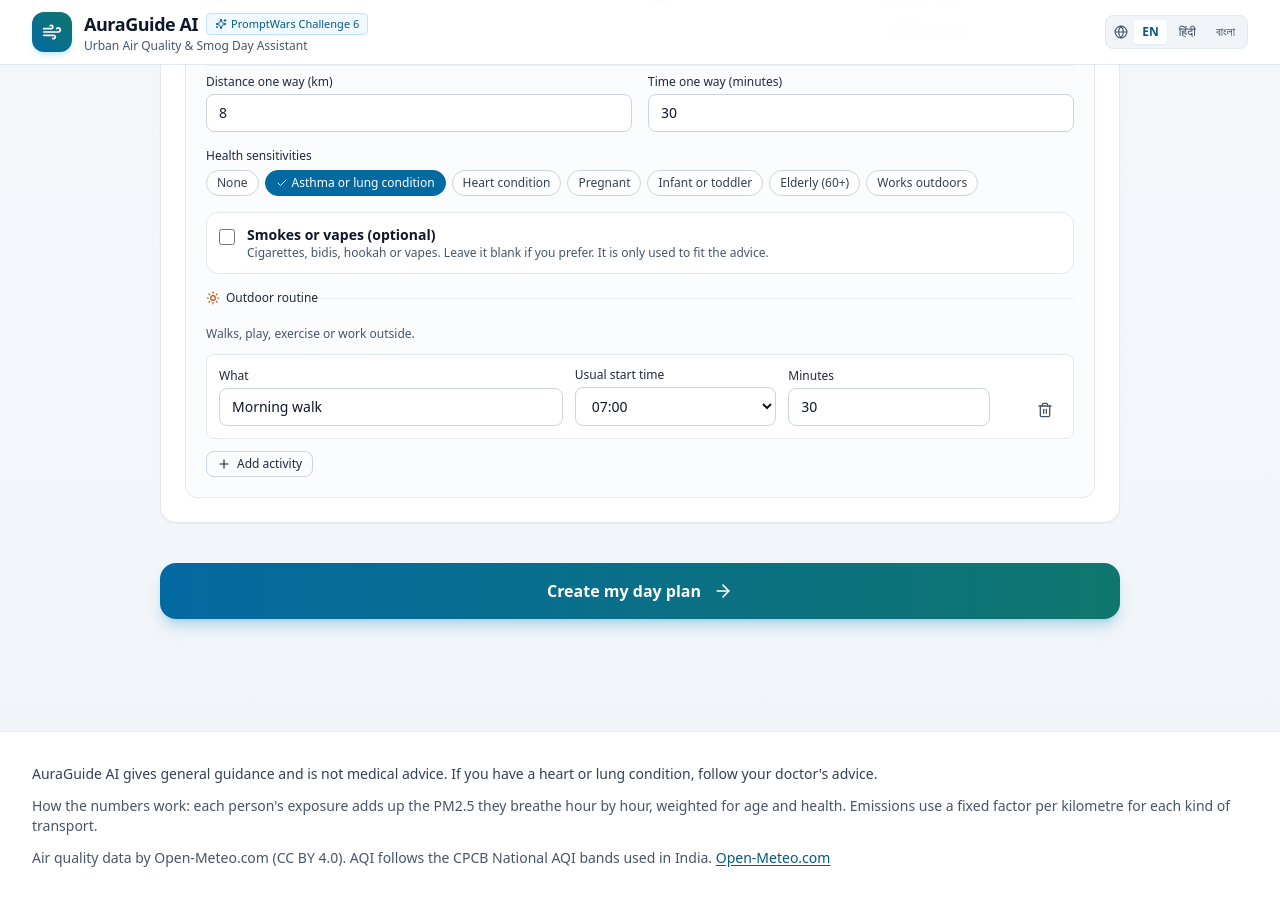
Test: HomePage › writes the plan again if the language changes while it is loading
(page scrolled)
Click the button "Create my day plan". click: (640,591)
box: x1=160 y1=563 x2=1120 y2=619
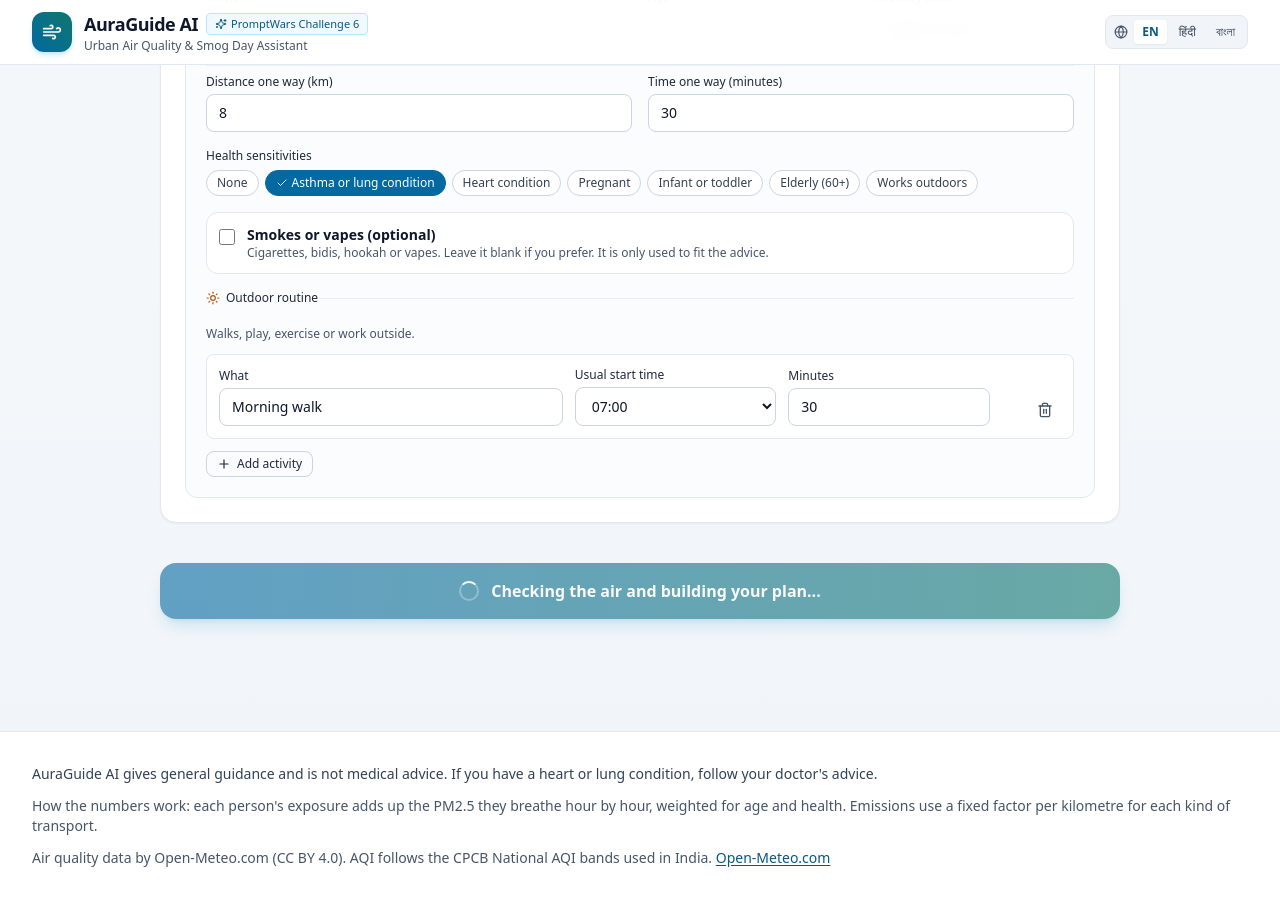
Click the button named "Switch language to Bengali". click: (1225,32)
box: x1=1208 y1=20 x2=1243 y2=44
(page scrolled)
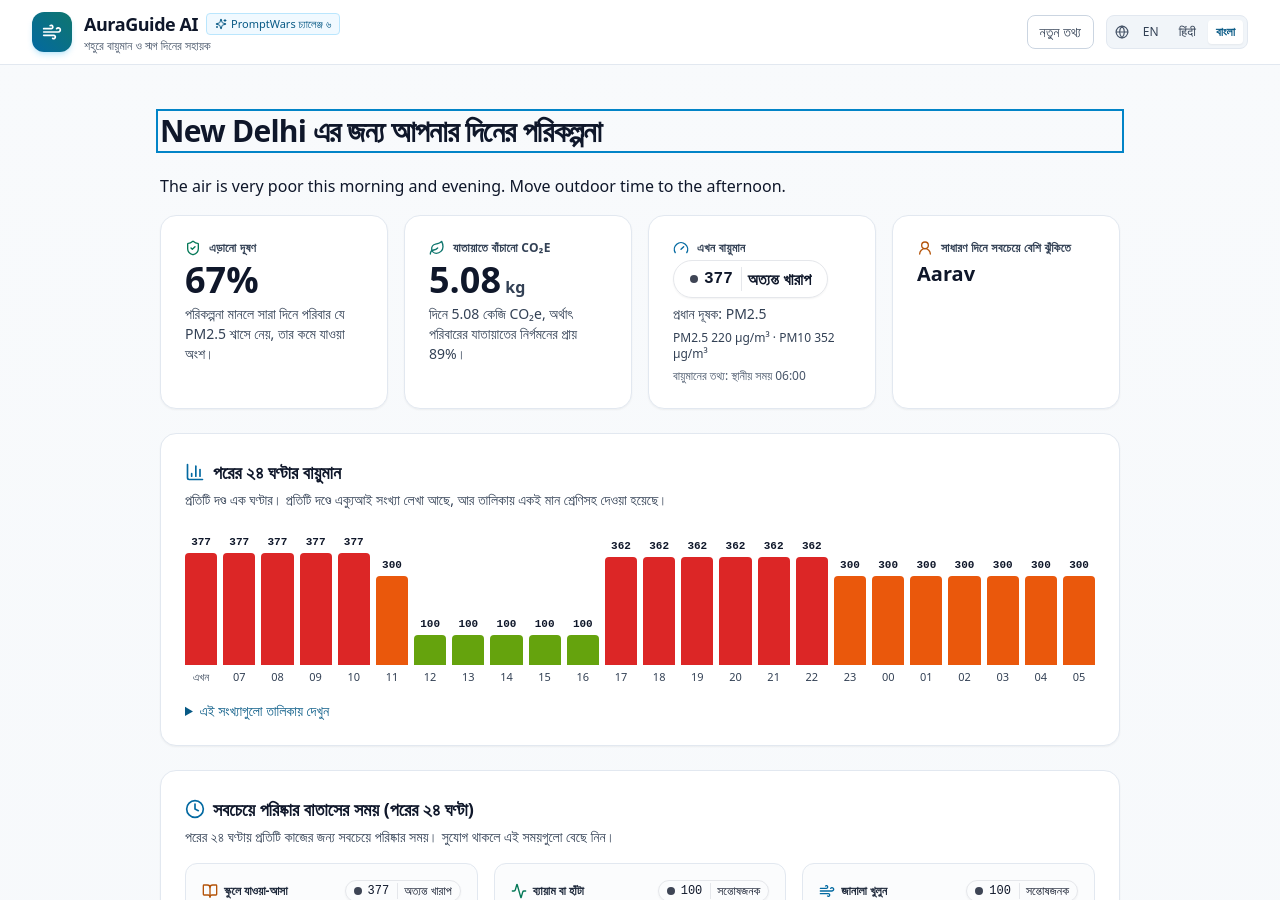
Result: the heading "New Delhi এর জন্য আপনার দিনের পরিকল্পনা" is shown at x1=160 y1=110 x2=601 y2=151
